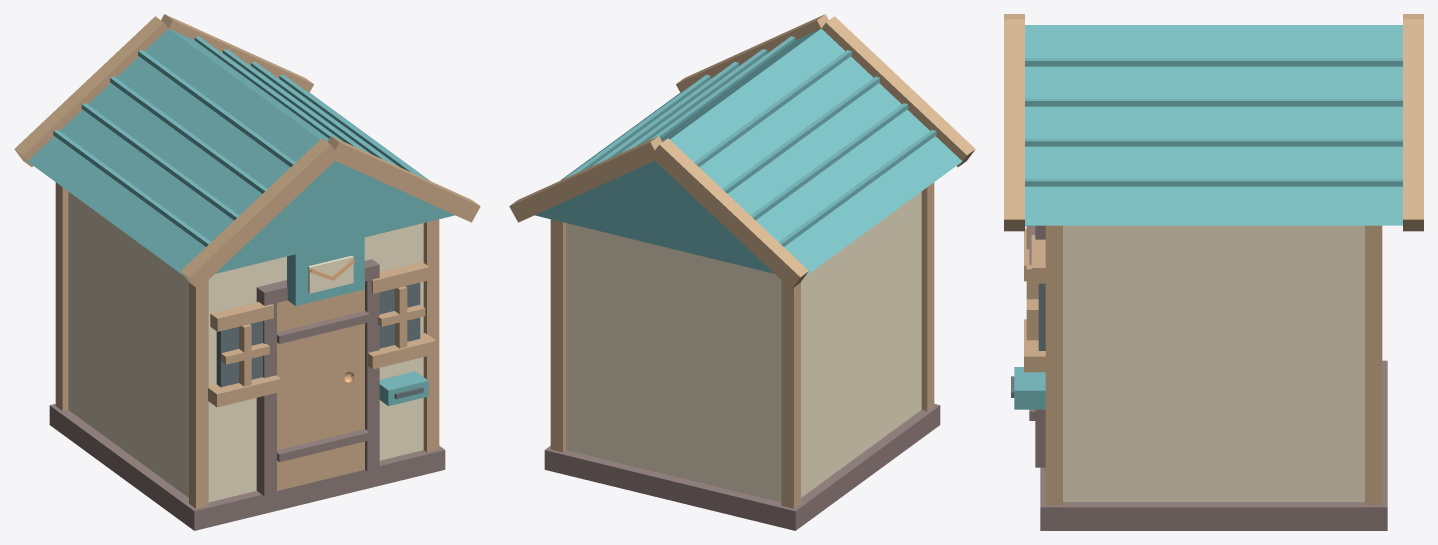
3 views of the same model, side by side, from view 1: azimuth 30°, elevation 25°; view 2: azimuth 150°, elevation 25°; view 3: azimuth 270°, elevation 25° (orthographic). The views are drawn at different scales.
Visible parts, largest first — view 1: meadow-courier-post-office; view 2: meadow-courier-post-office; view 3: meadow-courier-post-office.
Boxes of the visible parts, left/top/right/bottom form: meadow-courier-post-office: left=14, top=14, right=480, bottom=530; meadow-courier-post-office: left=509, top=14, right=975, bottom=530; meadow-courier-post-office: left=1004, top=14, right=1423, bottom=530.
Size of the model in its own units: 2.32 by 2.8 by 2.42.
